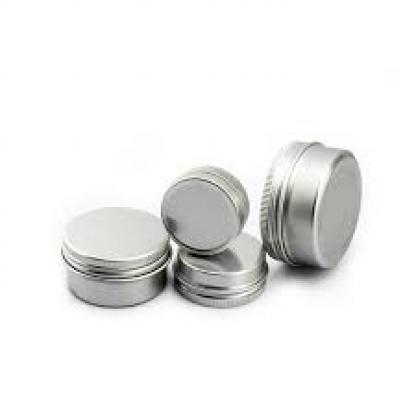METAL: (256, 139, 362, 266), (59, 203, 170, 309), (159, 167, 248, 255), (172, 231, 266, 307)
